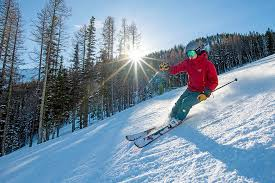skis: (126, 117, 187, 148)
